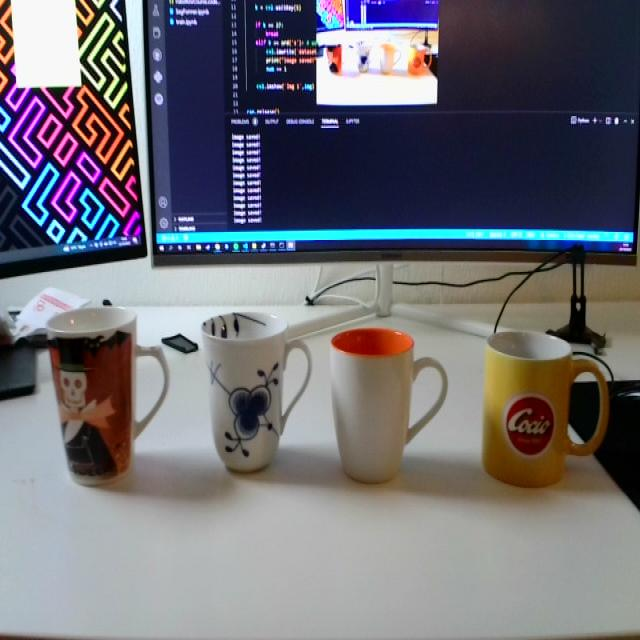Cocio Cup: (480, 331, 612, 489)
Halloween cup: (48, 304, 168, 486)
Hand painted cup: (200, 309, 312, 474)
White Cup: (327, 326, 447, 484)
